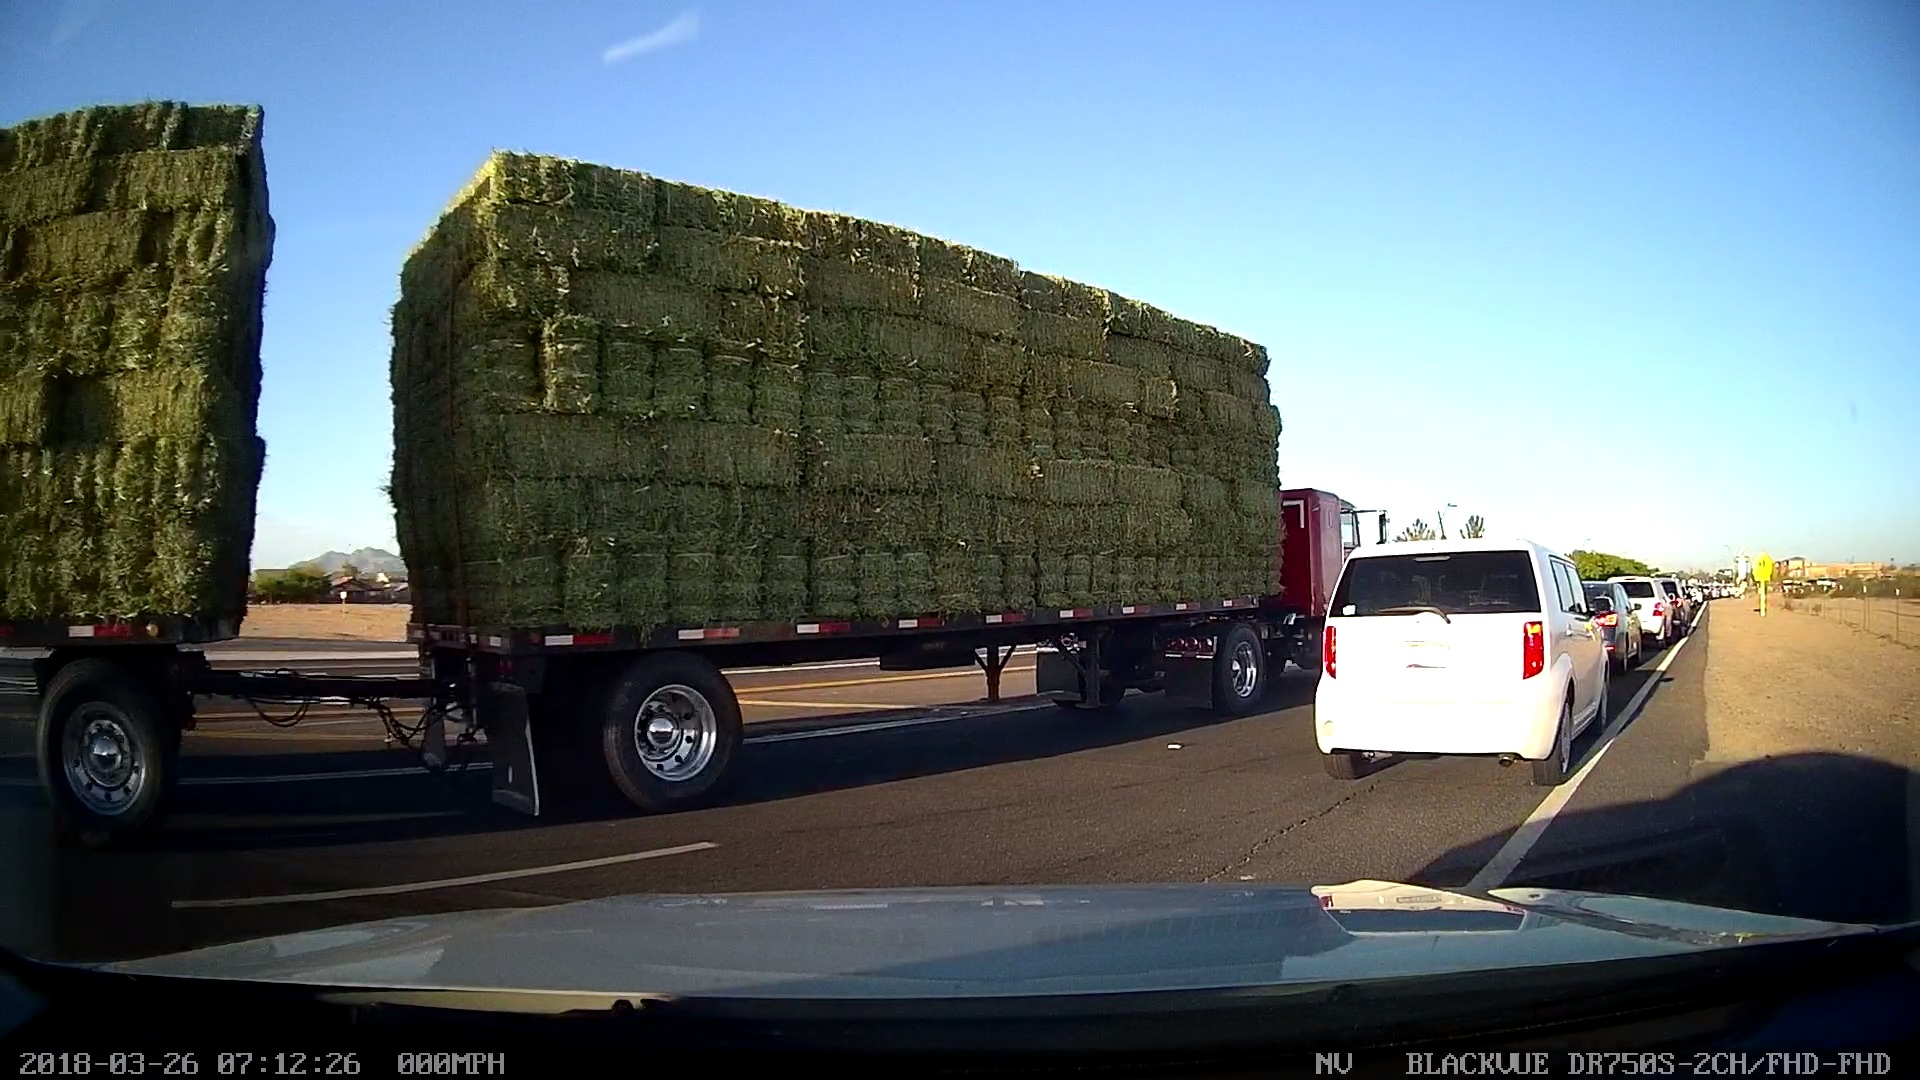plate: (1384, 633, 1464, 679)
vehicle: (370, 149, 1396, 797), (1314, 531, 1615, 794), (1568, 572, 1646, 686), (1615, 572, 1674, 649)
